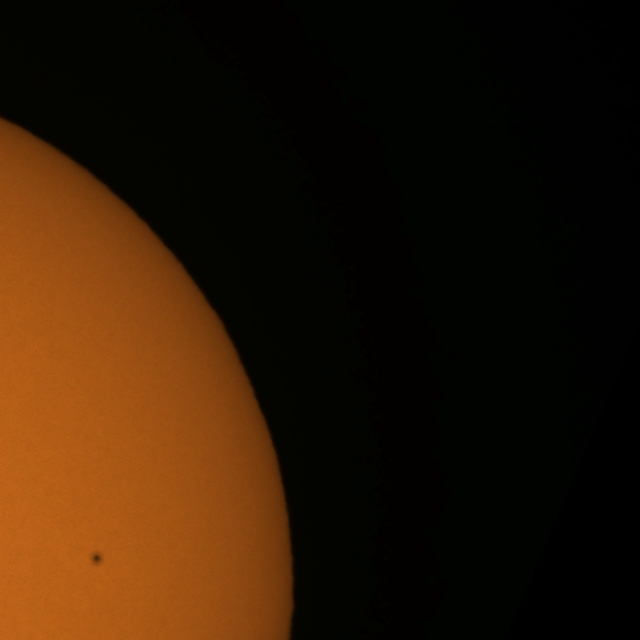sunspot: (89, 550, 104, 568)
